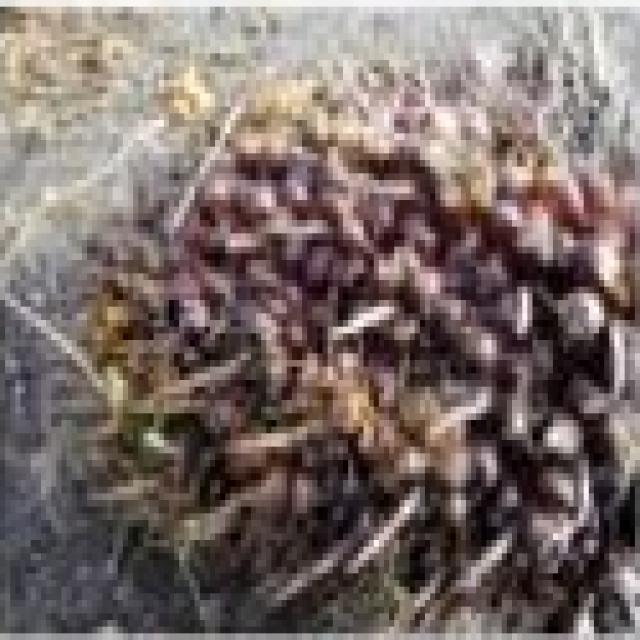FFB: (93, 100, 640, 640)
